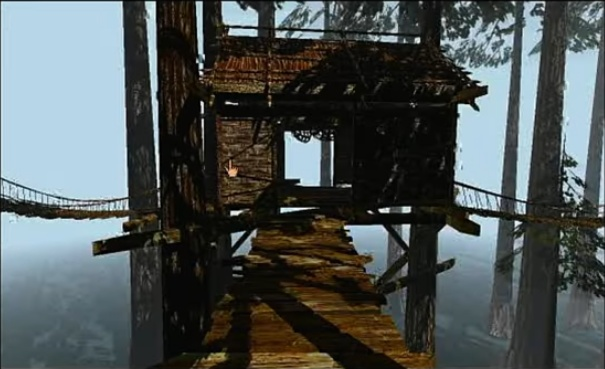Pointer: (221, 157, 243, 178)
